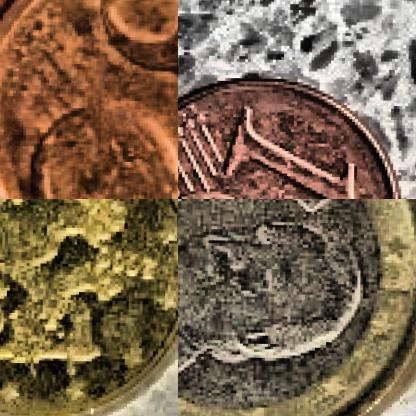coin: (178, 199, 415, 415), (0, 199, 177, 415), (0, 0, 177, 198), (178, 72, 415, 198)
